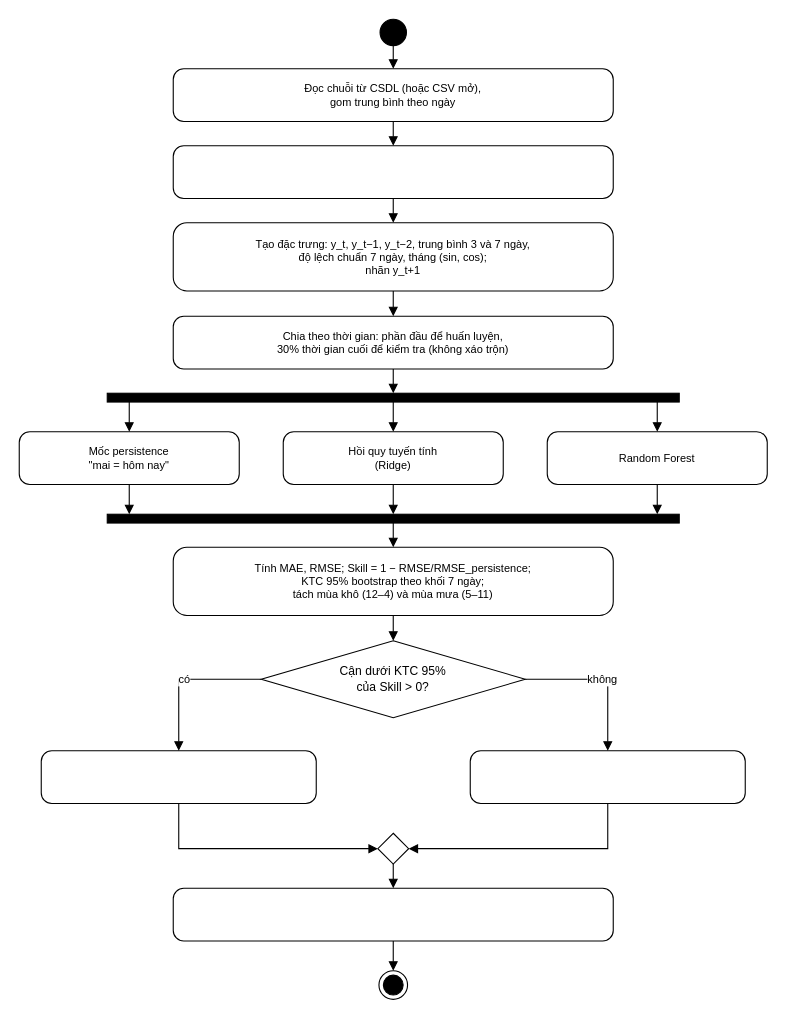
The diagram is 787 pixels wide and 1019 high, and some of its shapes have lost their labels. Here are the shapes that lost their labels. From the top down, the centre of each, then its label:
the point at 392,172: Dựng chuỗi ngày liên tục; ngày thiếu giữ khuyết, không nội suy
the point at 178,777: Ghi nhận "đã kiểm chứng" (co_ky_nang_y_nghia = true)
the point at 607,777: Ghi nhận "thử nghiệm, tham khảo" (co_ky_nang_y_nghia = false)
the point at 392,914: Huấn luyện lại trên toàn bộ dữ liệu; lưu models/*.joblib và *.json
